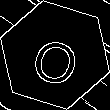O_N: (26, 24, 84, 86)
